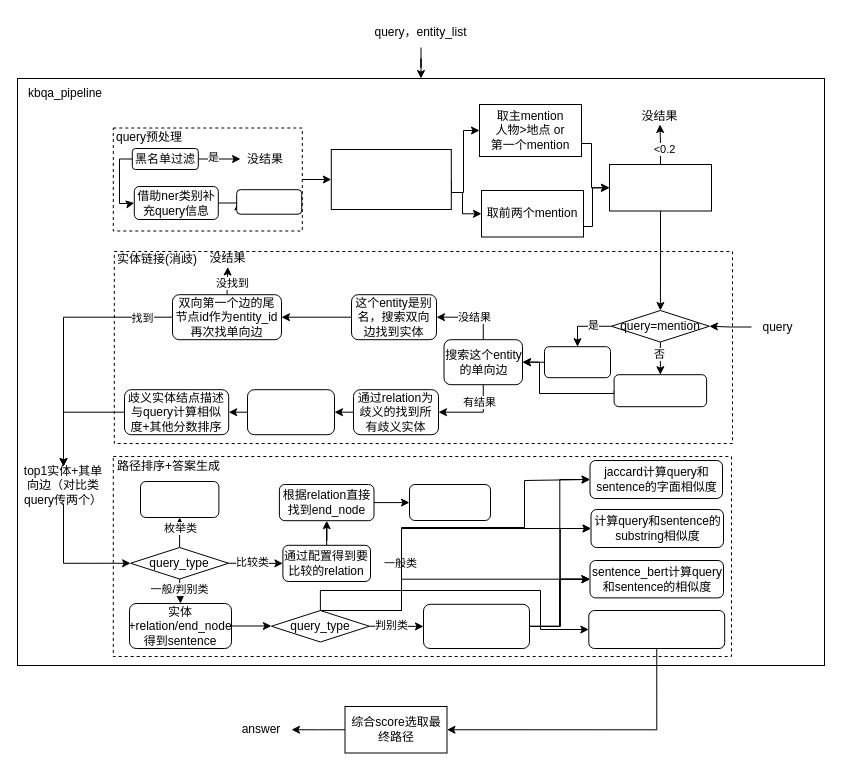
Image size: 842x770. Some labels were removed from this diagram. Each missing label, with the centre of its shape:
post_process输出答案: (449,502)
交互式模型计算query和sentence的相似度: (656,629)
同义词替换: (269,201)
提取出的两个槽位和entity拼接形成两个input_query: (476,625)
枚举作品类边的end_node: (179,499)
检查提取出来的mention与query的重合度: (660,187)
歧义实体hot_level排序，选择前topk个: (290,412)
输入mention选取第一个entity_id: (660,390)
选取query的entity_id: (577,362)
问法分类 normal/contrast/ judgement/enumerate: (390,179)
